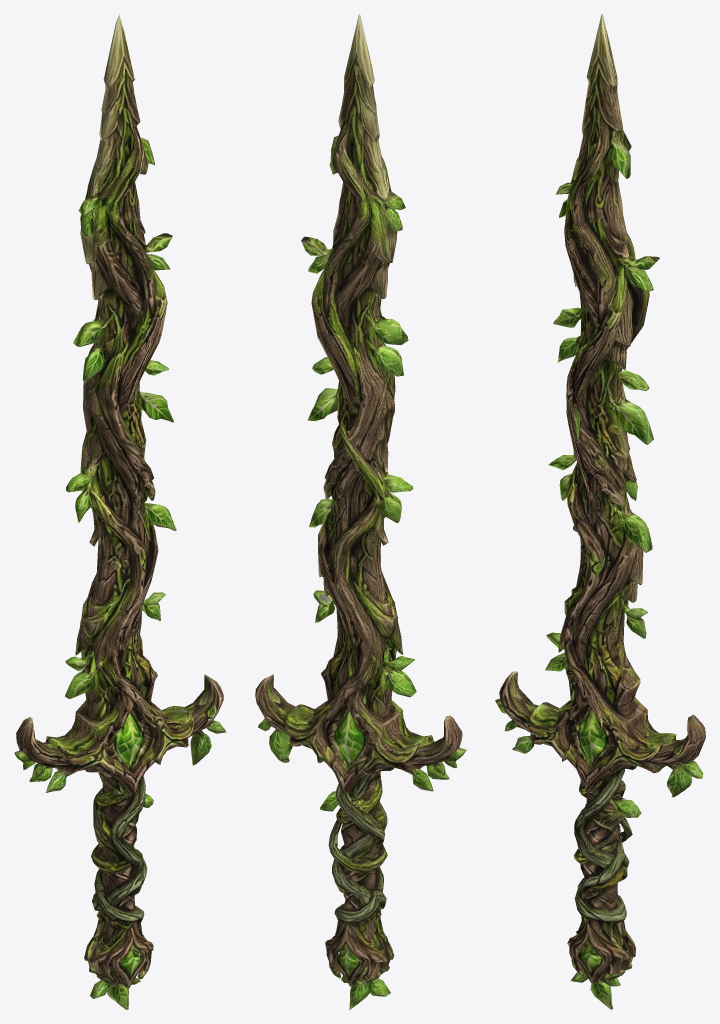
The model's file is sword-forest.glb.
3 views of the same model, side by side, from view 1: azimuth 30°, elevation 25°; view 2: azimuth 150°, elevation 25°; view 3: azimuth 330°, elevation 25° (orthographic).
Visible parts, largest first — view 1: Motion_Control; view 2: Motion_Control; view 3: Motion_Control.
Part boxes in pixels (left/top/right/bottom): Motion_Control: left=14, top=14, right=226, bottom=1009; Motion_Control: left=255, top=14, right=466, bottom=1009; Motion_Control: left=495, top=14, right=705, bottom=1009.
Bounding box in the file's own units: 0.4162 × 1.9 × 0.1394.
1 material, 1 textured.
